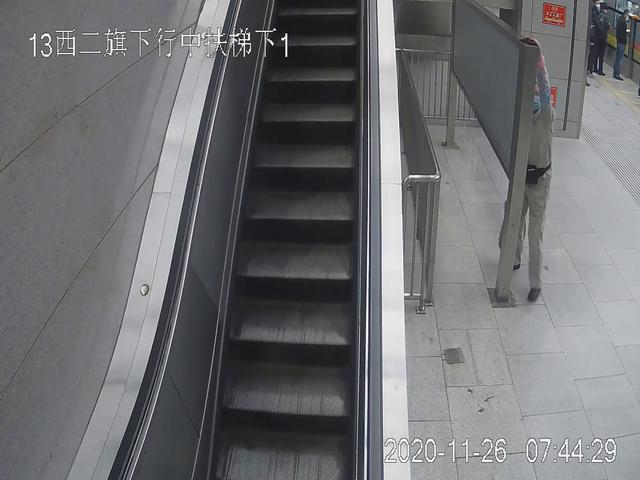person: (501, 60, 556, 307), (613, 8, 631, 81)
